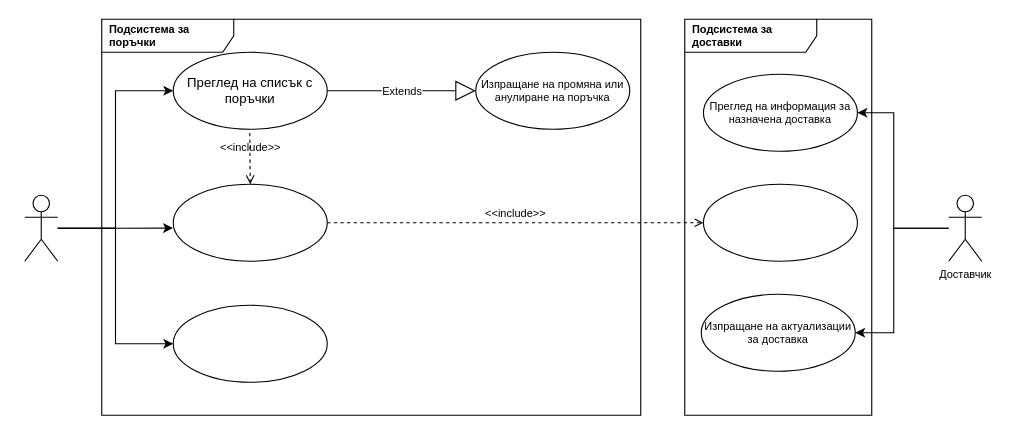
Some shapes in this 1011 by 435 pixel diagram are drawn without their labels. Here are the shapes that lost their labels. From the top down, the centre of each, then its label:
At (41,227): "Клиент".
At (249,222): "Преглед на детайлна информация за определена поръчка".
At (779,222): "Преглед на доставки към съответна поръчка".
At (249,343): "Регистриране на нова поръчка".
